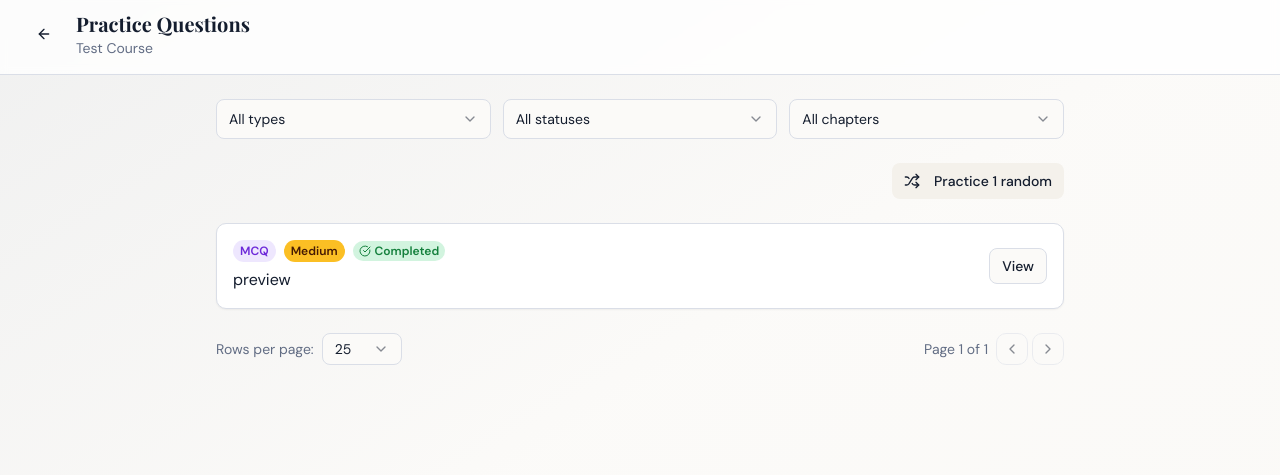
Test case: UnifiedPracticeQuestionsList › combines type + status + chapter filters and resets all three with Clear filters (#774)
The width and height of the screenshot is (1280, 475).
Pick a chapter — q1 matches.
Click the dropdown named "Filter by chapter": (841, 119) [789, 99, 1064, 139]
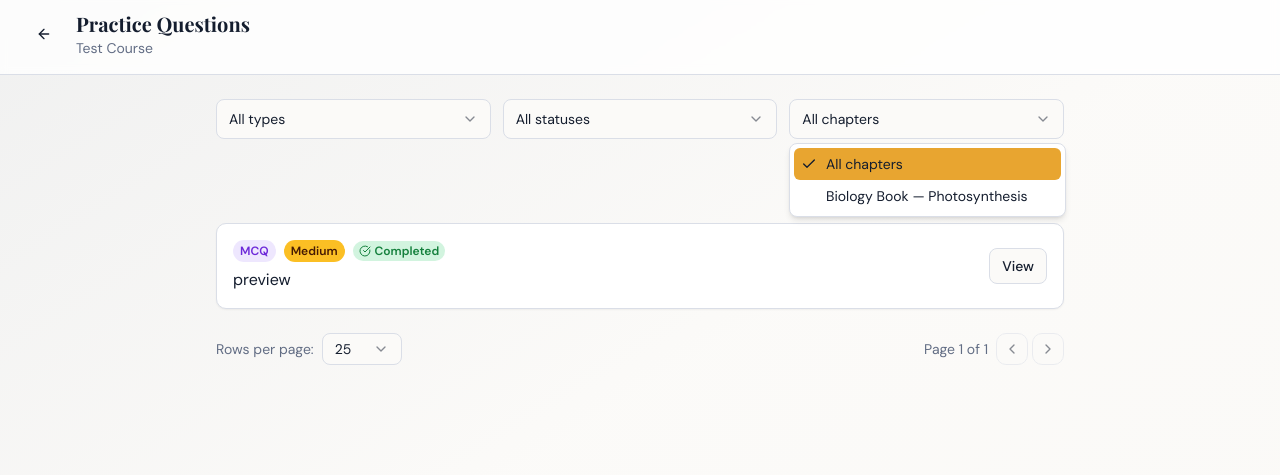
Click the option "Biology Book — Photosynthesis": (927, 196) [826, 187, 1028, 205]
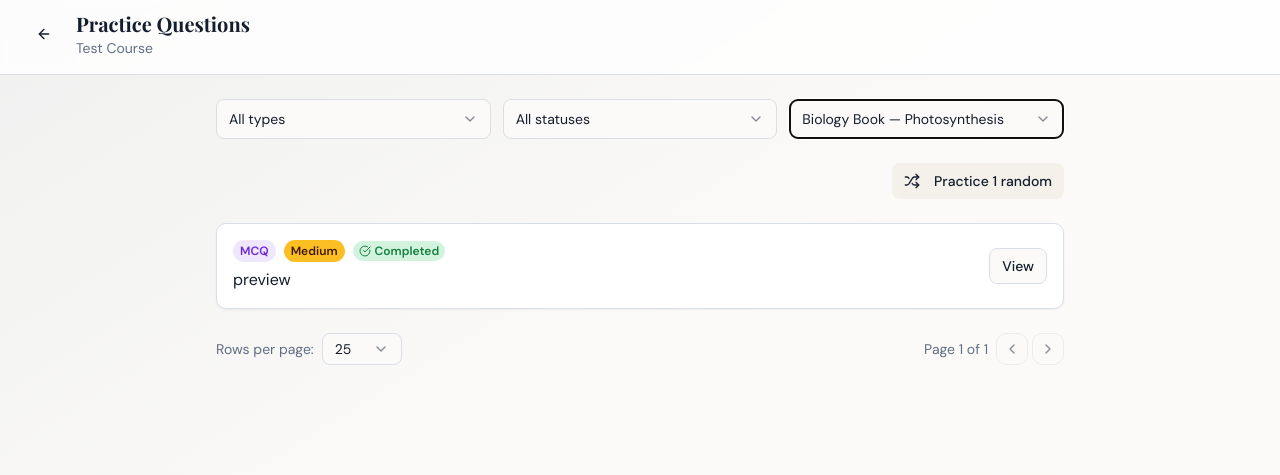
Check: the number of list items is 1, box [216, 223, 1064, 309]
Narrow to In progress — q1 is completed, so combined filter empties the list.
Click the dropdown named "Filter by status": (553, 119) [503, 99, 777, 139]
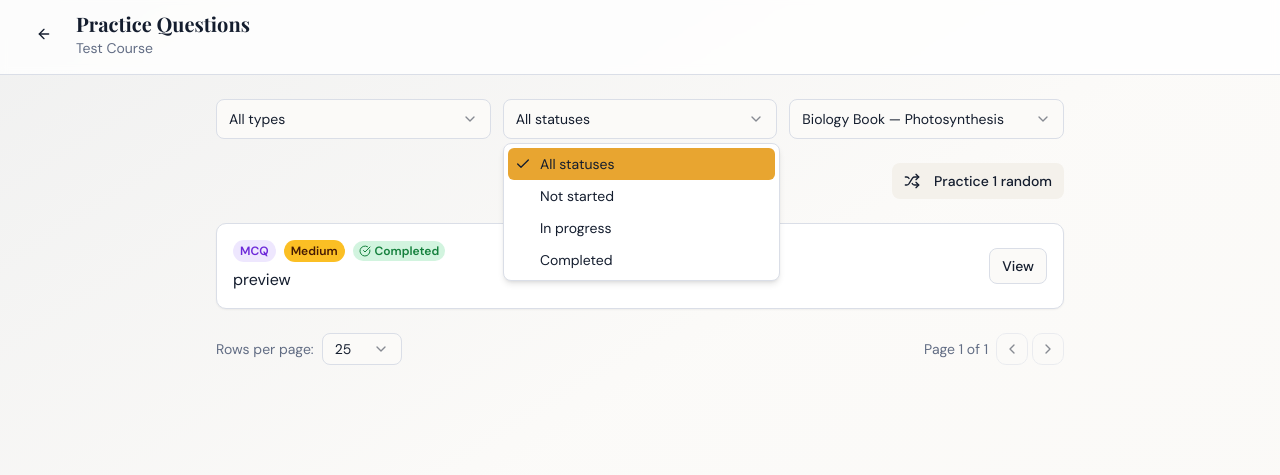
Click the option "In progress": (576, 228) [540, 219, 612, 237]
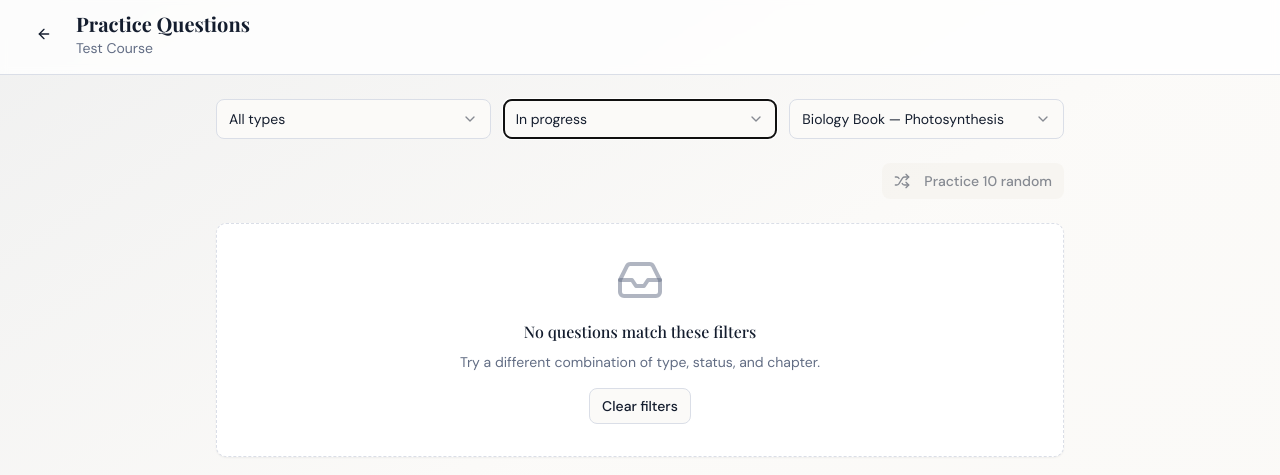
Check: the heading "No questions match these filters" is shown, box [524, 321, 756, 342]
Clear filters resets type + status + chapter and the row returns.
Click the button "Clear filters": (640, 406) [589, 388, 691, 424]
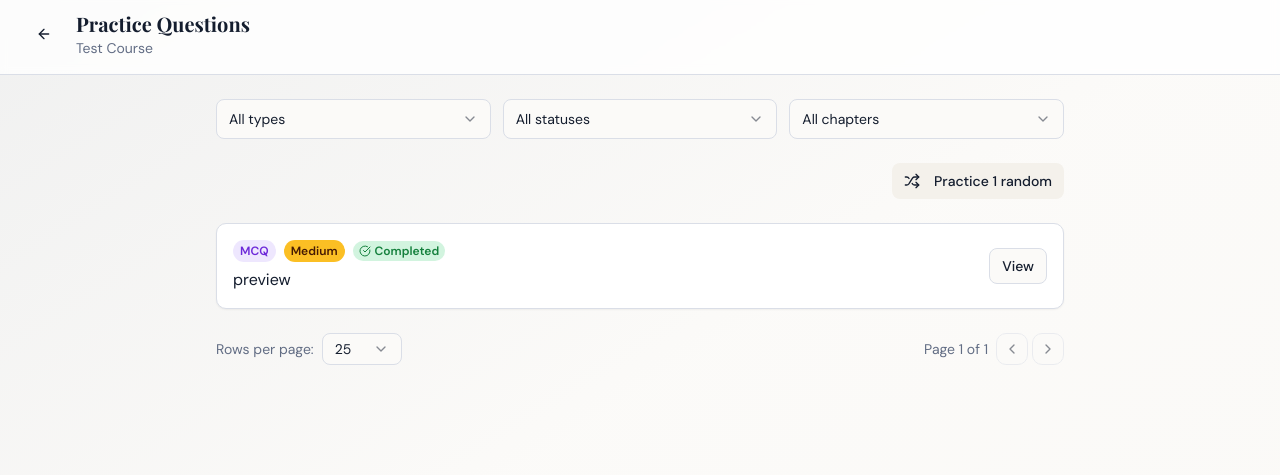
Check: the number of list items is 1, box [216, 223, 1064, 309]
